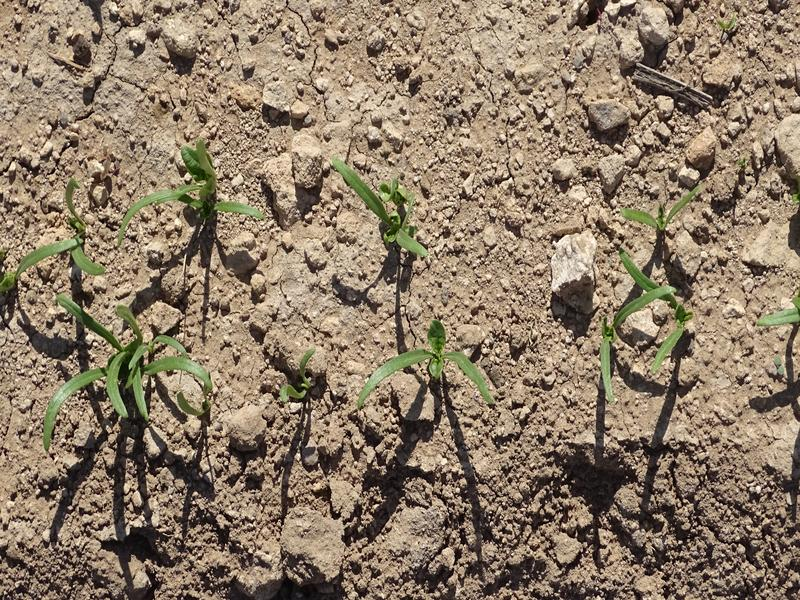Espinaca: (35, 296, 207, 437), (602, 192, 691, 394), (120, 143, 262, 238), (359, 318, 499, 411), (332, 156, 431, 261), (11, 185, 104, 284), (278, 347, 321, 411)
